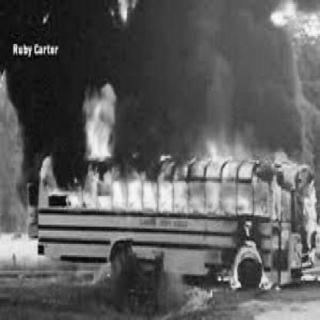Fire: (40, 154, 316, 246)
